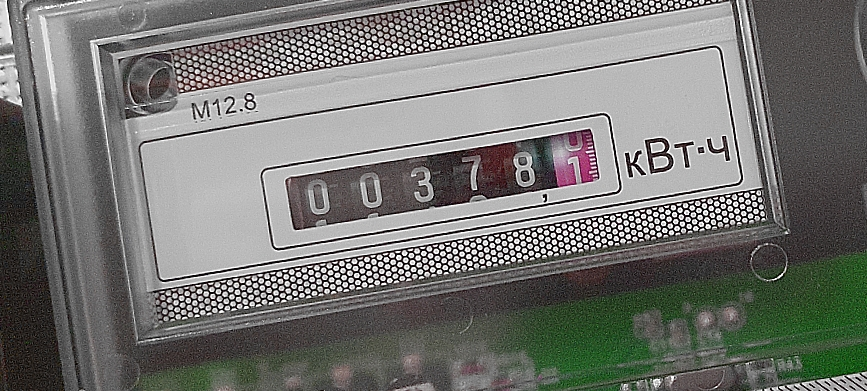0: (303, 173, 335, 216), (355, 167, 385, 209), (561, 128, 585, 152)
1: (563, 151, 586, 185)
3: (406, 161, 437, 205)
7: (458, 151, 486, 192)
8: (509, 146, 538, 189)
screen: (261, 107, 621, 242)
